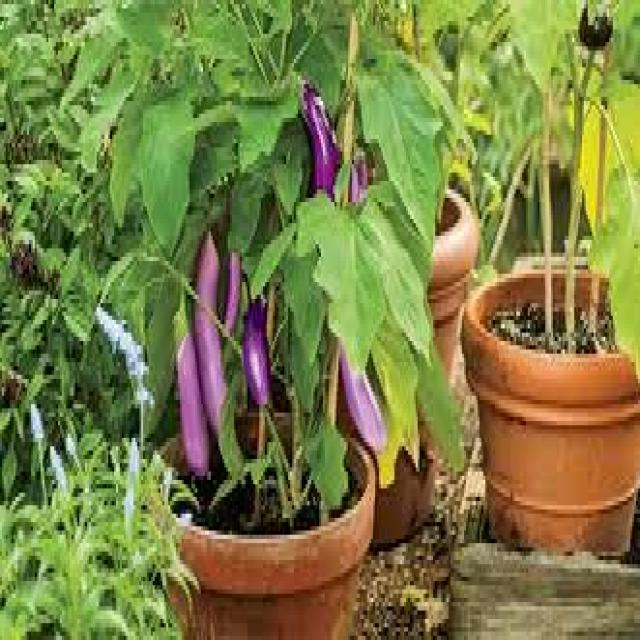organic waste: (342, 134, 385, 454), (192, 219, 230, 442), (170, 278, 209, 480), (298, 80, 336, 206), (240, 278, 269, 413), (222, 232, 240, 345), (578, 0, 613, 51)
